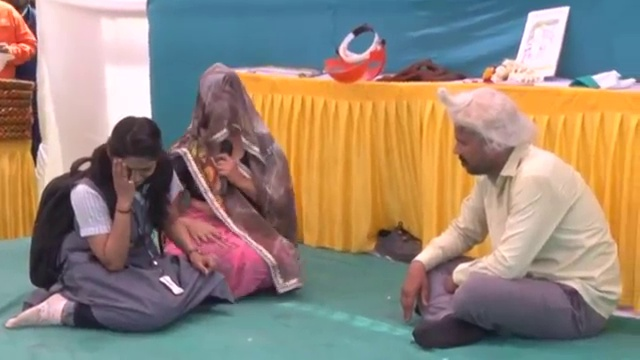helmet_off: (441, 90, 528, 175), (105, 110, 164, 198), (195, 69, 251, 135), (27, 2, 56, 15)
person: (388, 87, 632, 341), (19, 112, 195, 325), (148, 66, 300, 300), (0, 1, 49, 87)
